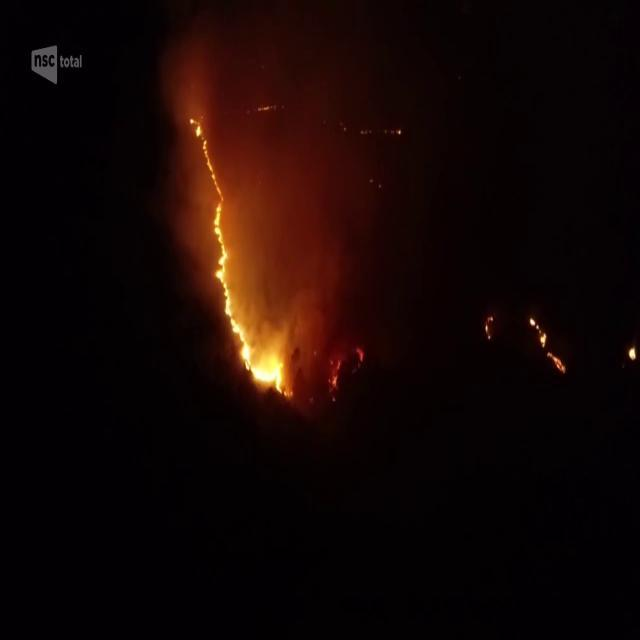Fire: (192, 114, 292, 398), (528, 318, 566, 376), (329, 361, 341, 389), (485, 316, 495, 342), (628, 338, 638, 361), (355, 345, 365, 363)
